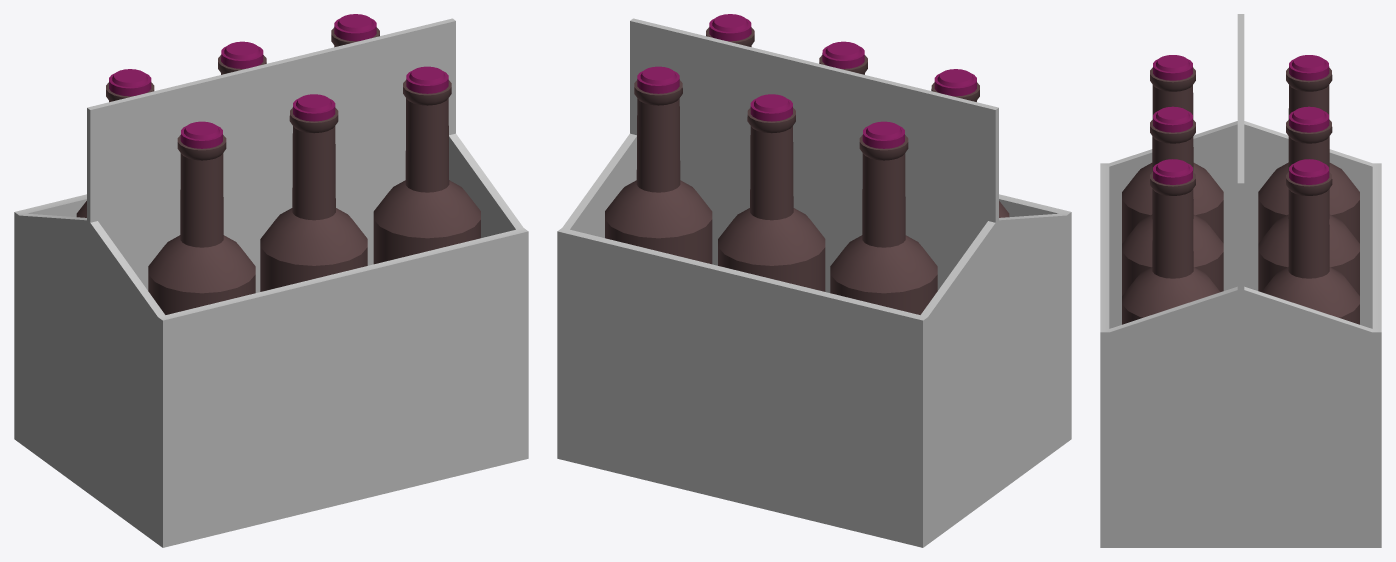
Rendered from beer_01.FBX.
3 renders of one model, left to right at view 1: azimuth 30°, elevation 25°; view 2: azimuth 150°, elevation 25°; view 3: azimuth 270°, elevation 25°, orthographic. The views are drawn at different scales.
Visible parts, largest first — view 1: Box066; view 2: Box066; view 3: Box066.
Part boxes in pixels (box(x1,y1,x2,y2)): Box066: box(14, 14, 528, 547); Box066: box(557, 14, 1071, 547); Box066: box(1100, 14, 1381, 547).
Bounding box in the file's own units: 35.79 × 35.97 × 25.16.
